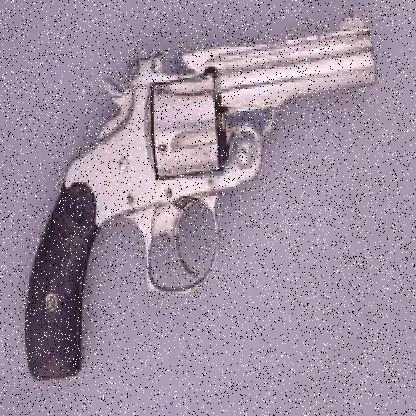pistol: (18, 2, 377, 387)
